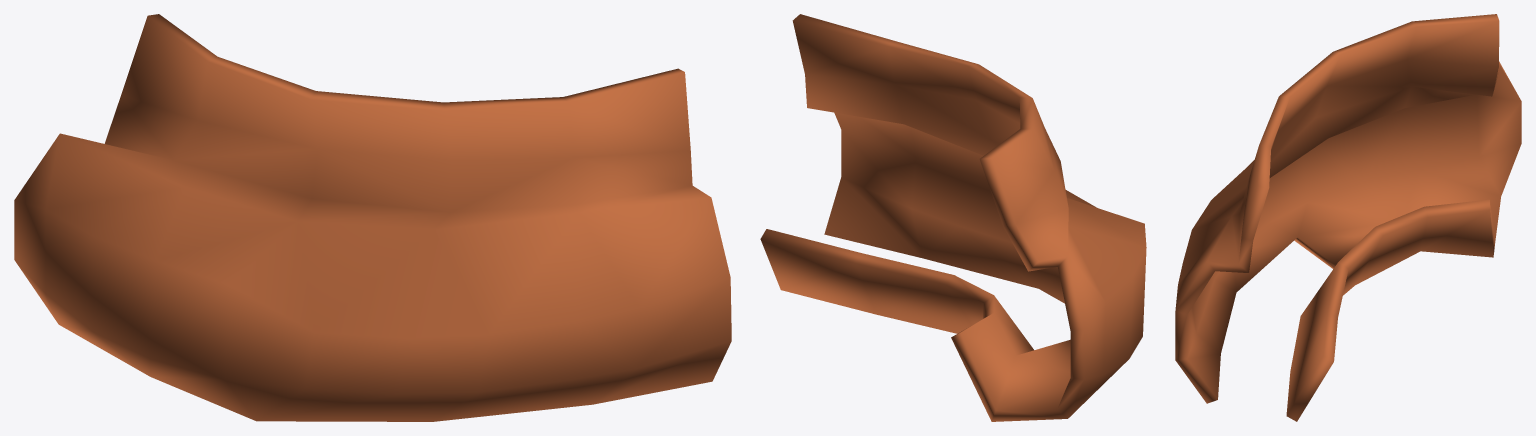
File: Armor_Tasset_R.fbx
3 renders of one model, left to right at view 1: azimuth 30°, elevation 25°; view 2: azimuth 150°, elevation 25°; view 3: azimuth 270°, elevation 25°, orthographic. The views are drawn at different scales.
Visible parts, largest first — view 1: Armor_Tasset_R; view 2: Armor_Tasset_R; view 3: Armor_Tasset_R.
Part boxes in pixels (x1,y1,x2,y2): Armor_Tasset_R: (14,14,731,421); Armor_Tasset_R: (760,14,1146,421); Armor_Tasset_R: (1175,14,1521,421).
Bounding box in the file's own units: 0.2205 × 0.1433 × 0.1699.
